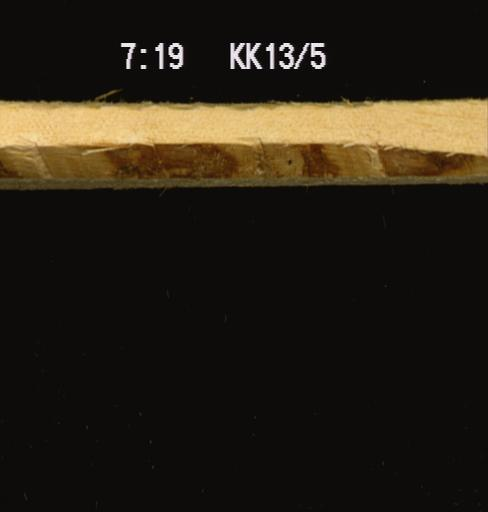wave: (0, 136, 487, 193)
